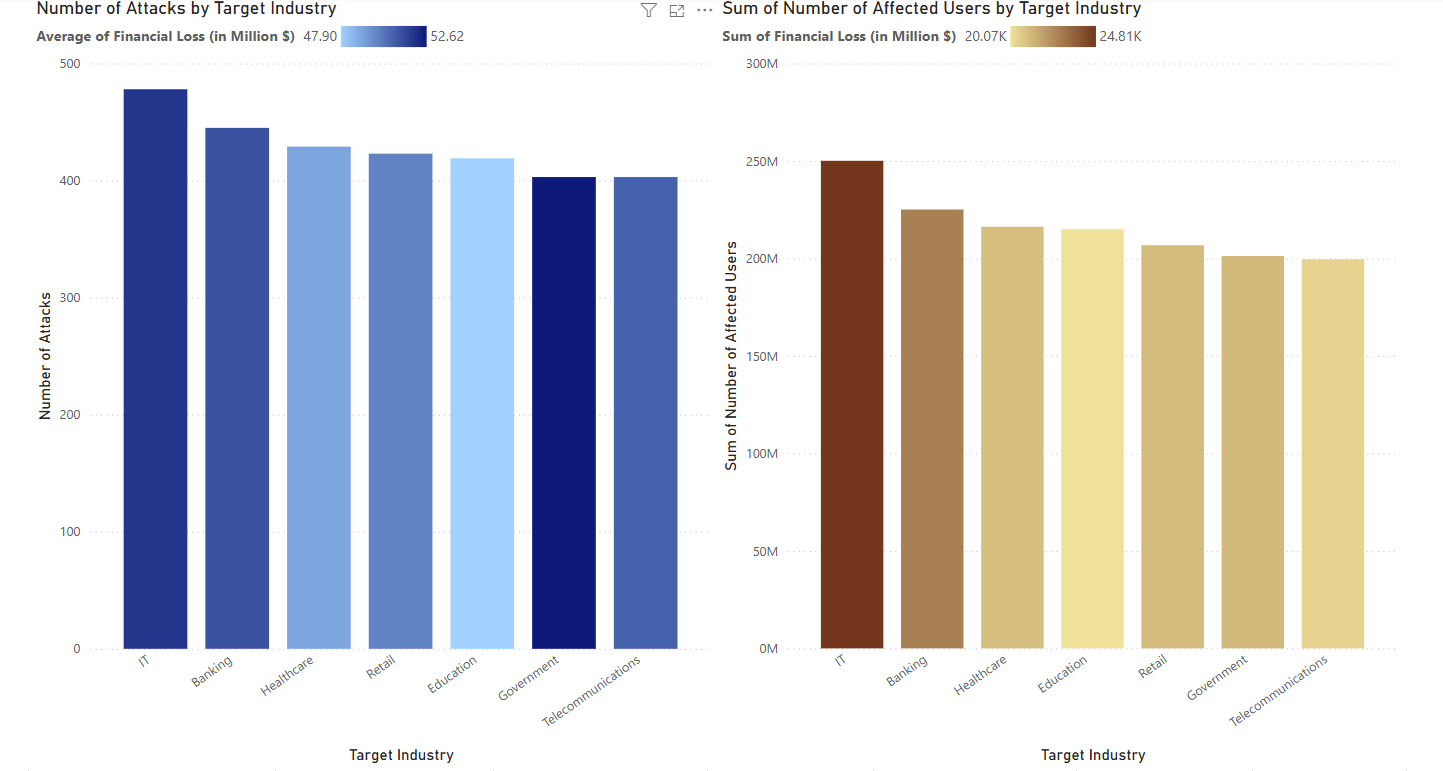

The page's visual inventory and layout, read from the dashboard file:
{"tool":"powerbi","page":{"name":"Financial Loss by Target Industry","canvas":[1280,720],"ordinal":3},"visuals":[{"type":"clusteredColumnChart","fields":{"Category":["Global_Cybersecurity_Threats_2015-2024.Target Industry"],"Y":["CountNonNull(Global_Cybersecurity_Threats_2015-2024.Attack Type)"]},"box":[0,0,640.5,719.7],"z":0},{"type":"clusteredColumnChart","fields":{"Y":["Sum(Global_Cybersecurity_Threats_2015-2024.Number of Affected Users)"],"Category":["Global_Cybersecurity_Threats_2015-2024.Target Industry"]},"box":[640.2,0,640.2,720],"z":1000}]}

Visuals, with their boxes on the page's 1280x720 design canvas (x1, y1, x2, y2). These are canvas units, not pixel positions in the 1443x771 screenshot, which may show the page scaled, cropped or inside an application window:
clusteredColumnChart - Global_Cybersecurity_Threats_2015-2024.Target Industry x CountNonNull(Global_Cybersecurity_Threats_2015-2024.Attack Type): (left=0, top=0, right=640, bottom=720)
clusteredColumnChart - Sum(Global_Cybersecurity_Threats_2015-2024.Number of Affected Users) x Global_Cybersecurity_Threats_2015-2024.Target Industry: (left=640, top=0, right=1280, bottom=720)
